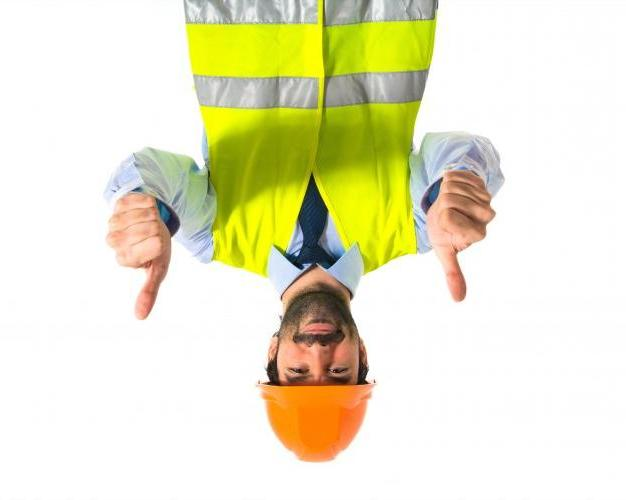thumbsdown: (105, 194, 166, 321), (441, 171, 496, 302)
